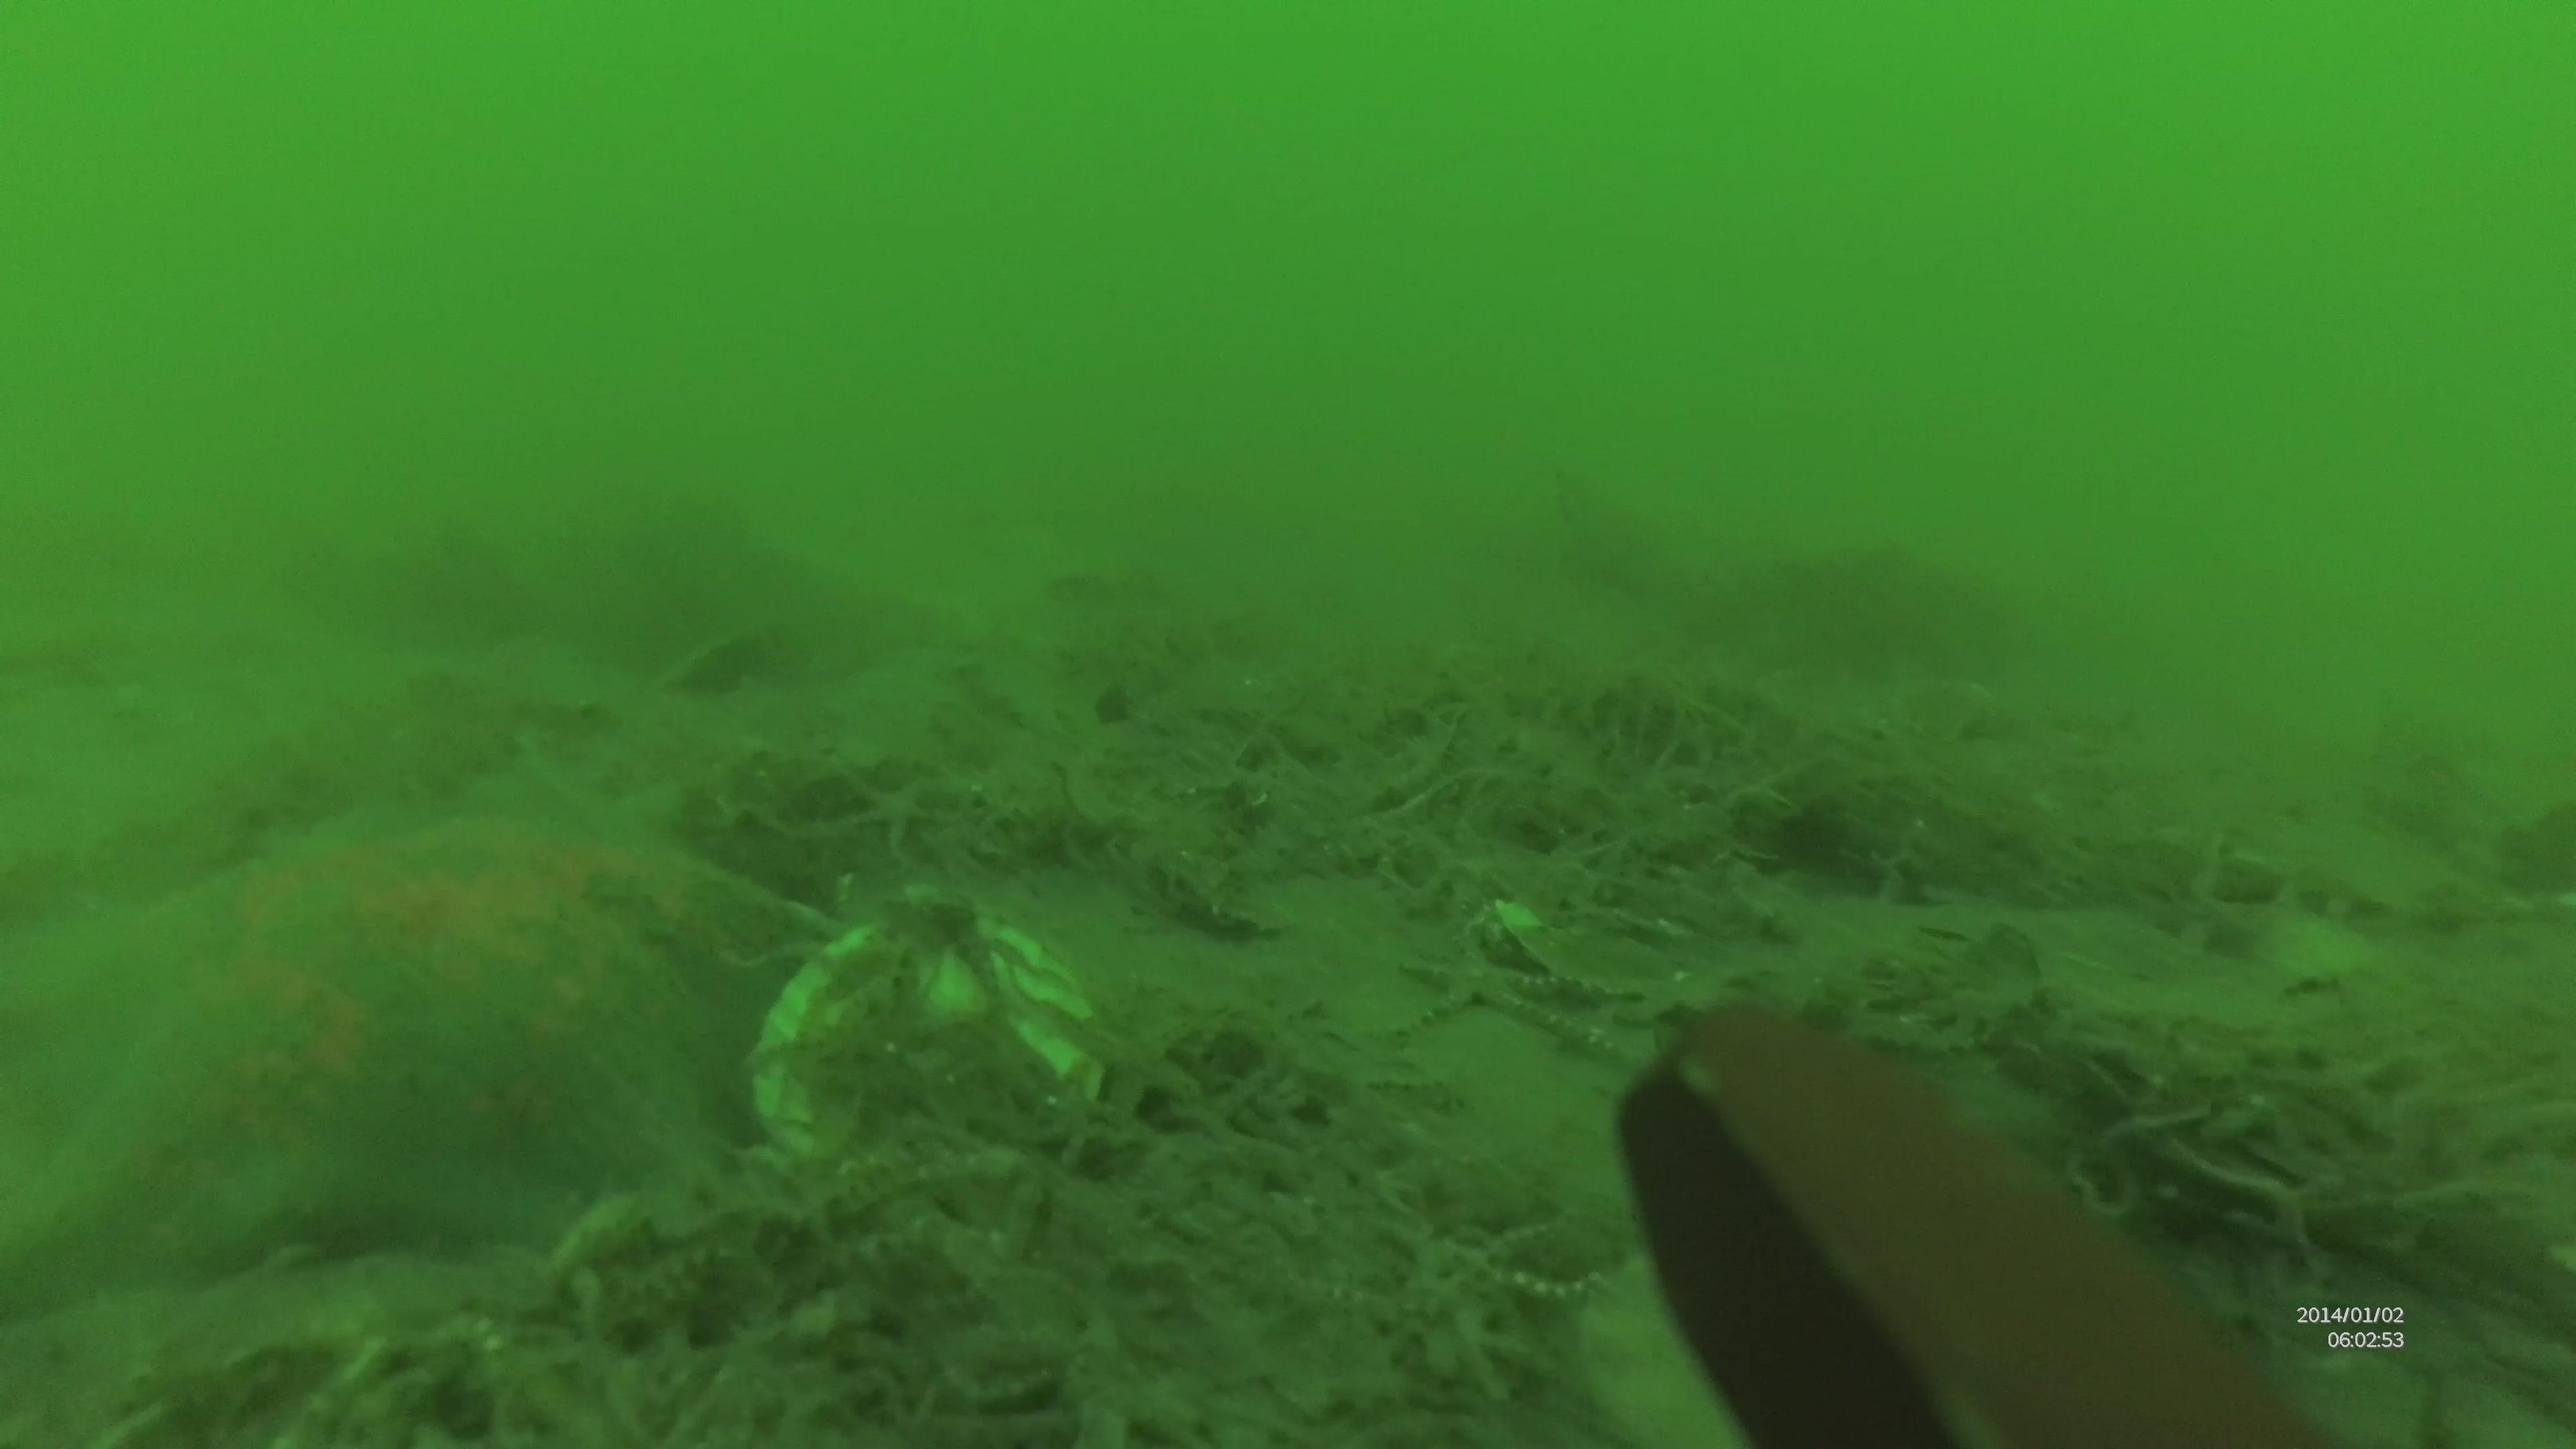scallop: (745, 892, 1127, 1192)
starfish: (5, 786, 862, 1283)
